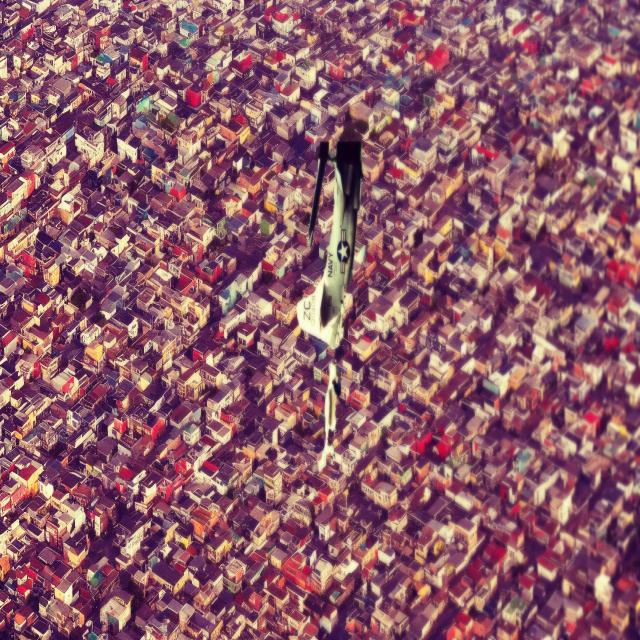airplane: (296, 125, 364, 357)
